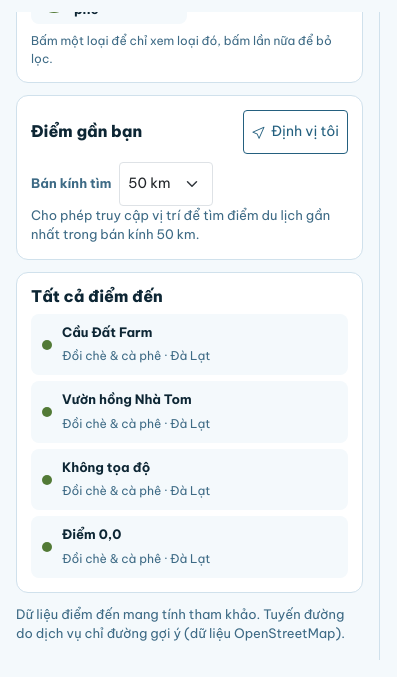
Test: MapView › diem toa do null hoac [0,0] van co trong danh sach, thong bao dem so diem chua ve duoc
(page scrolled)
Click the button "Không tọa độ Đồi chè & cà phê · Đà Lạt" at (106, 467), box [31,449,348,510]
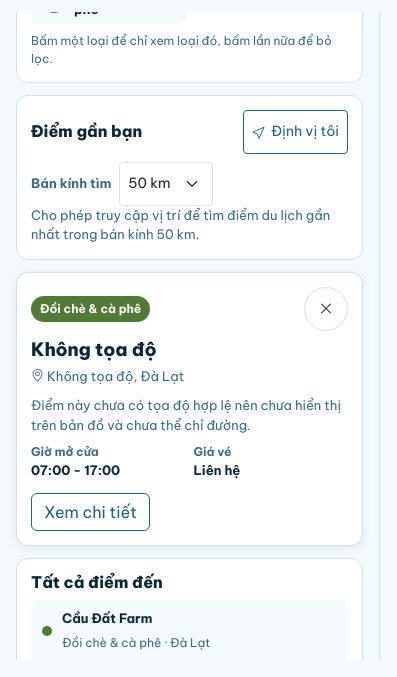
Check: the heading with id "selected-title" reads "Không tọa độ", box [31,338,157,361]
Check: the text with test id "no-coordinates" is shown, box [31,396,348,435]
